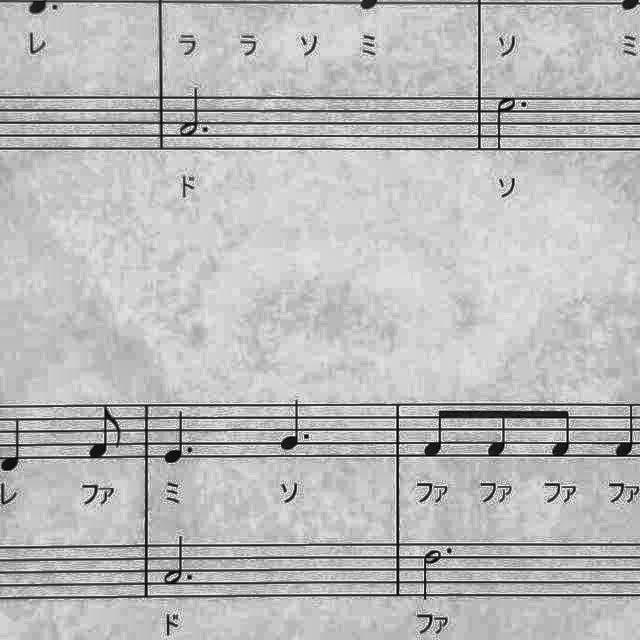Eighth-note: (85, 402, 127, 462), (420, 401, 454, 461), (547, 405, 581, 463), (484, 410, 516, 462)
Half-dot: (414, 542, 458, 604), (491, 89, 533, 153), (162, 534, 202, 592), (177, 84, 216, 140)
Quarter-dot: (158, 406, 198, 470), (274, 396, 314, 456)
Quarter-note: (0, 412, 28, 479), (610, 403, 640, 461)
